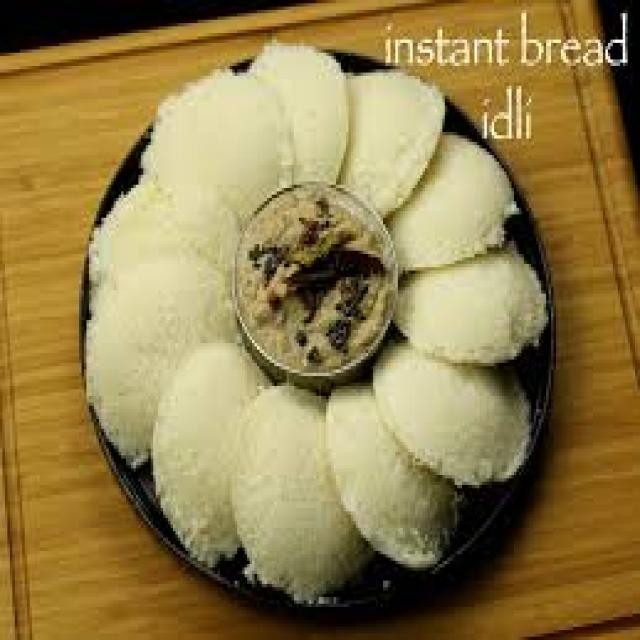IDLI: (88, 257, 227, 468), (325, 377, 458, 561), (157, 345, 271, 556), (241, 388, 359, 591), (145, 70, 297, 218), (375, 344, 525, 480), (95, 161, 240, 297), (394, 241, 545, 364), (334, 65, 445, 219), (399, 142, 503, 256), (260, 37, 342, 179)
